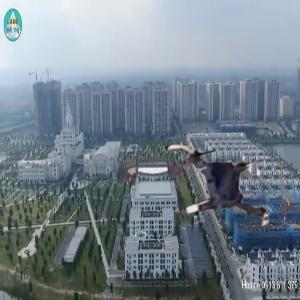drone: (158, 124, 282, 248)
